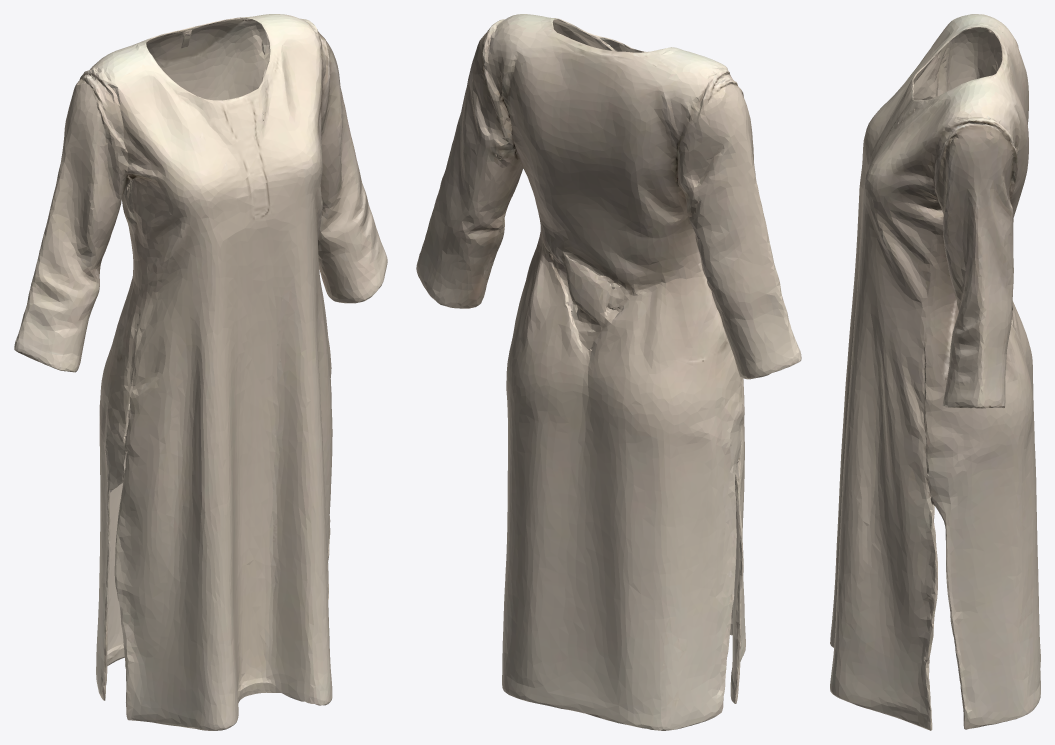
The model's file is kurti_long.glb.
3 renders of one model, left to right at view 1: azimuth 30°, elevation 25°; view 2: azimuth 150°, elevation 25°; view 3: azimuth 270°, elevation 25°, orthographic. The views are drawn at different scales.
Parts seen in each view (by area): view 1: world; view 2: world; view 3: world.
Part boxes in pixels (<box>): world: <box>14,14,387,730</box>; world: <box>416,14,801,730</box>; world: <box>830,14,1040,730</box>.
Size of the model in its own units: 1.2 by 1.99 by 0.6013.
1 material, 1 textured.
